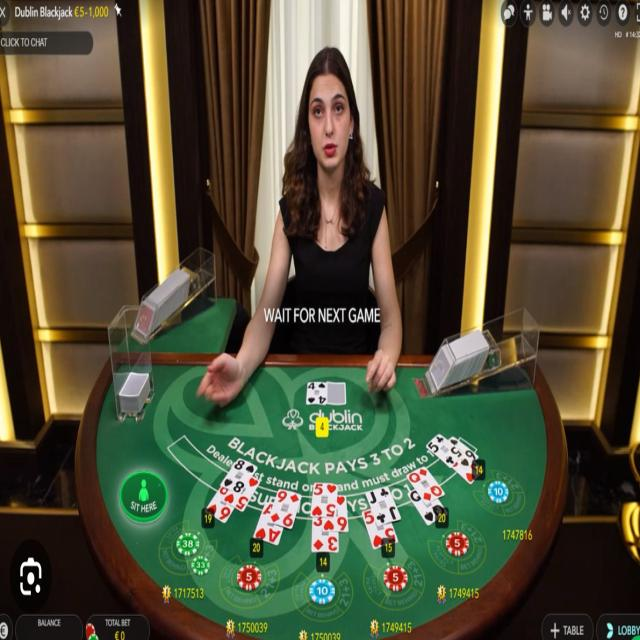Card-3: (312, 516, 338, 552), (453, 462, 485, 484)
Card-4: (305, 381, 327, 404)
Card-5: (362, 508, 398, 549), (425, 432, 464, 468), (225, 477, 260, 512), (311, 482, 338, 516)
Card-6: (206, 485, 234, 522), (449, 435, 479, 469), (322, 494, 349, 531)
Card-8: (220, 458, 257, 494)
Card-9: (268, 488, 301, 529)
Card-A: (253, 501, 283, 545)
Card-J: (366, 485, 401, 526)
Card-Q: (406, 465, 445, 505), (408, 489, 448, 526)
